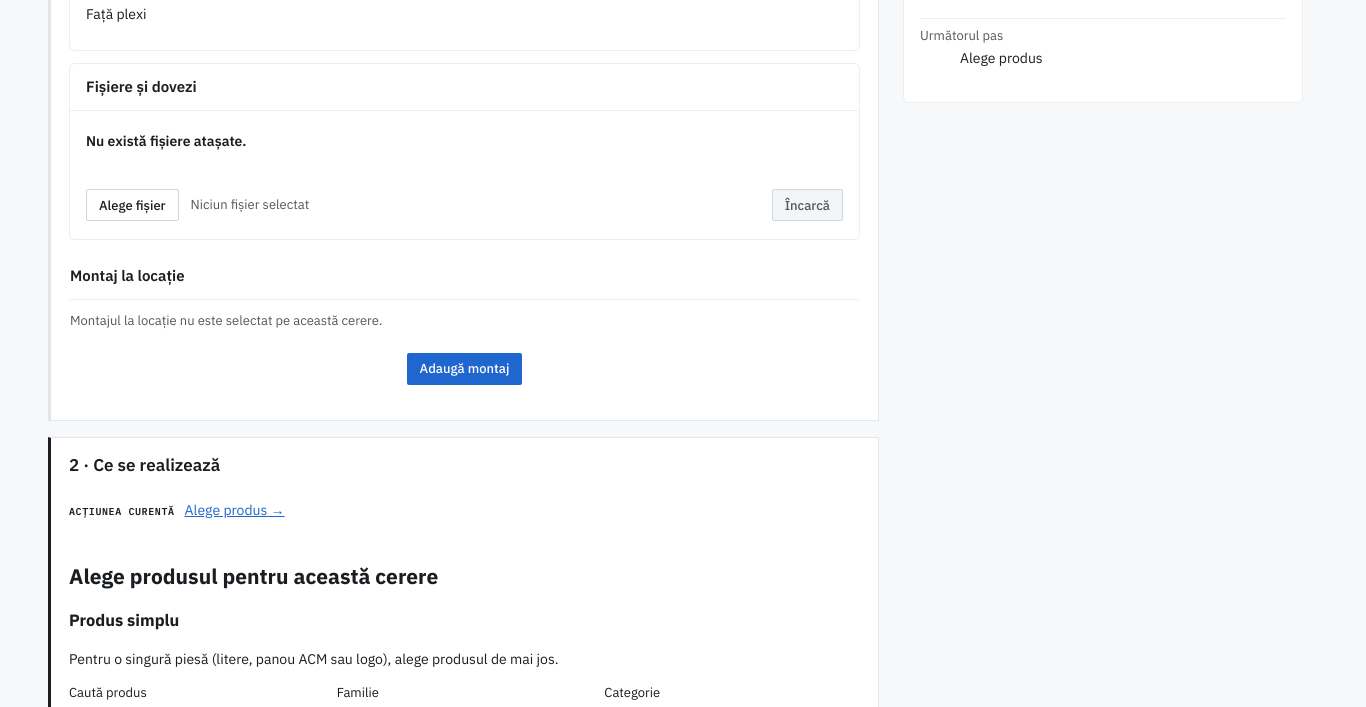
RequestDetailPage › selects installation with a single available mode
(page scrolled)
What coordinates should you click on to do the following:
click the button "Adaugă montaj"
I would click on:
 (464, 369)
Its box is [70, 347, 859, 391].
(page scrolled)
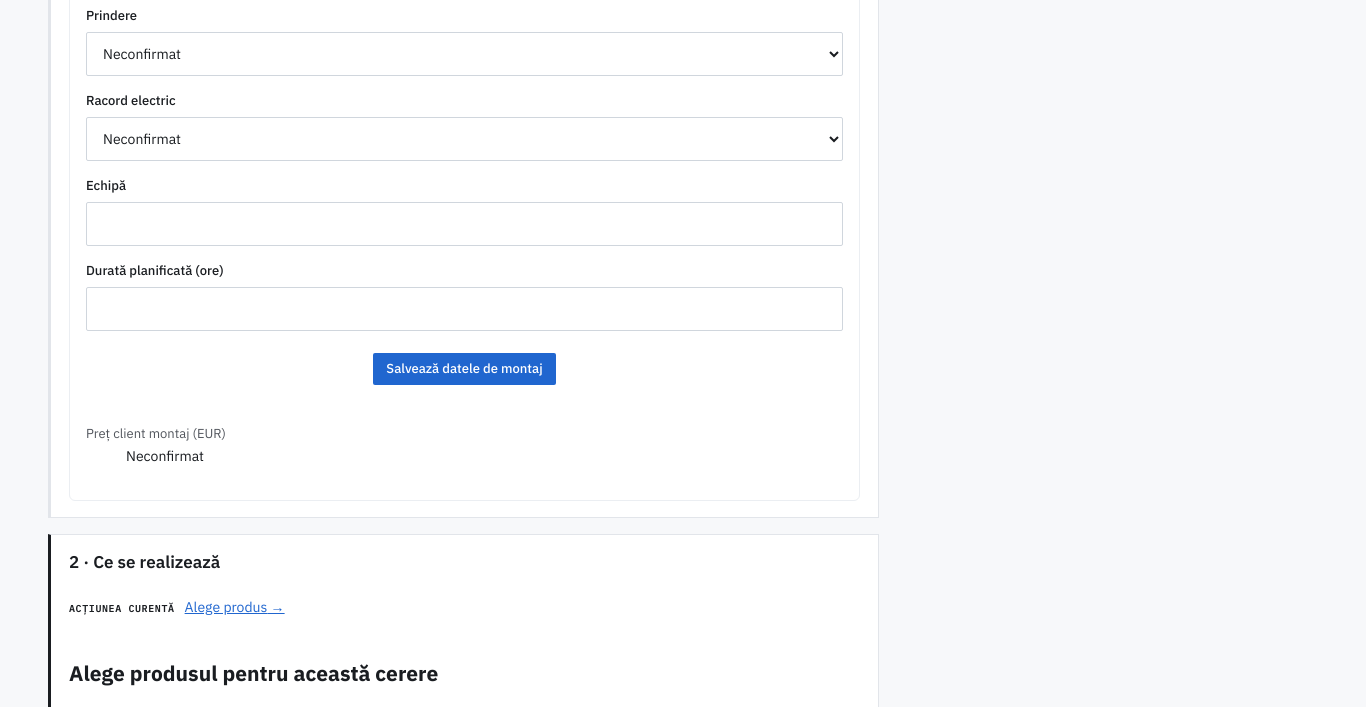
Expected: the button "Salvează datele de montaj" is enabled, [86, 347, 843, 391]
